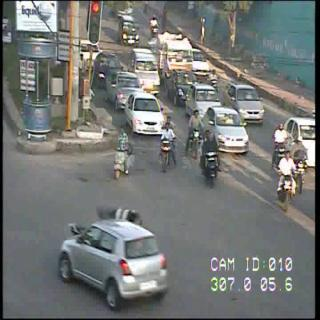multiple_accident: (56, 199, 175, 271)
